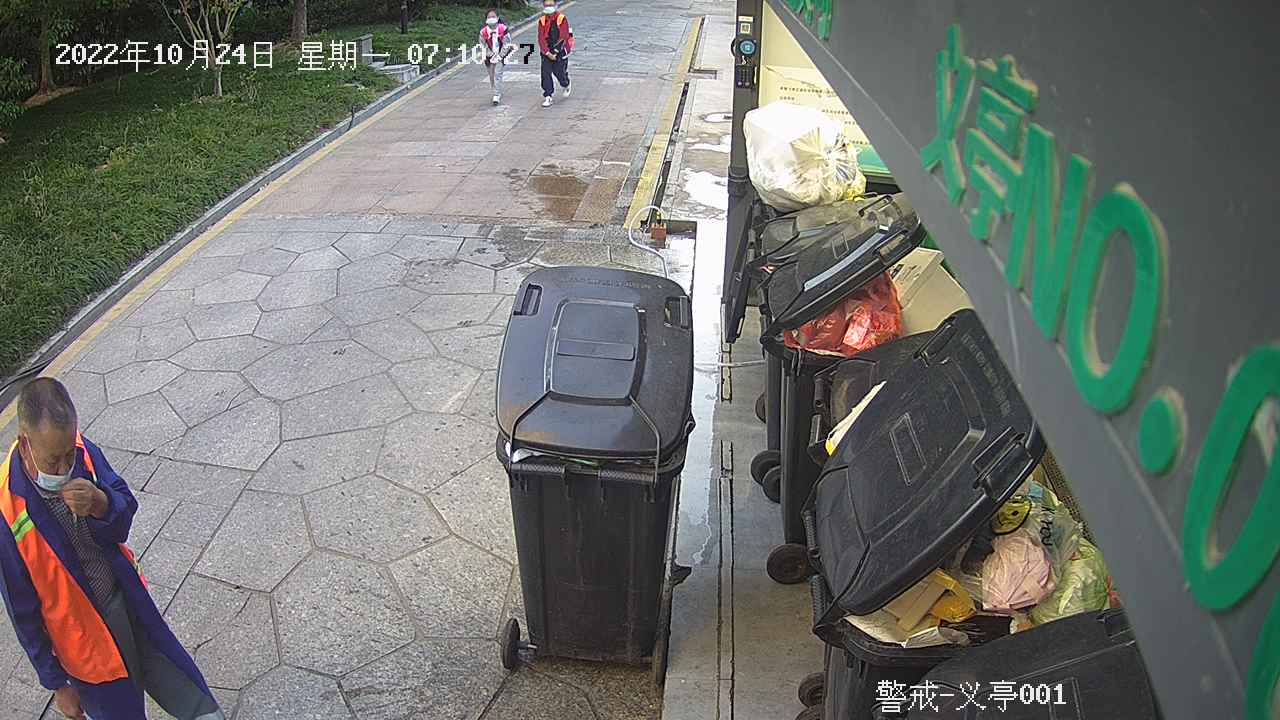person: (532, 1, 580, 110), (473, 5, 517, 107)
worker: (1, 372, 234, 720)
